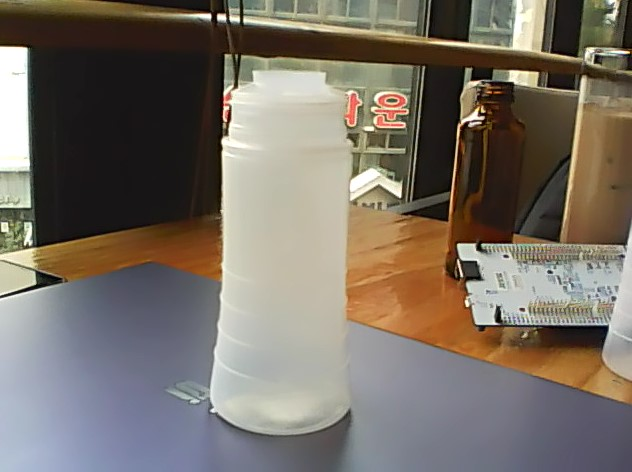Plastic: (207, 69, 358, 437)
